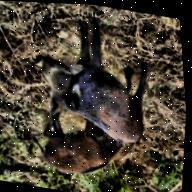boar: (21, 3, 160, 150), (26, 107, 128, 185)
